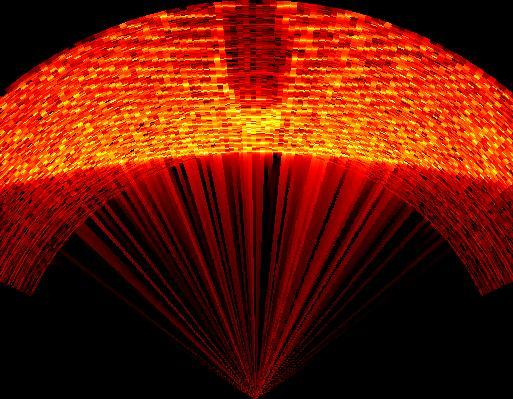box_crate: (223, 1, 294, 106)
